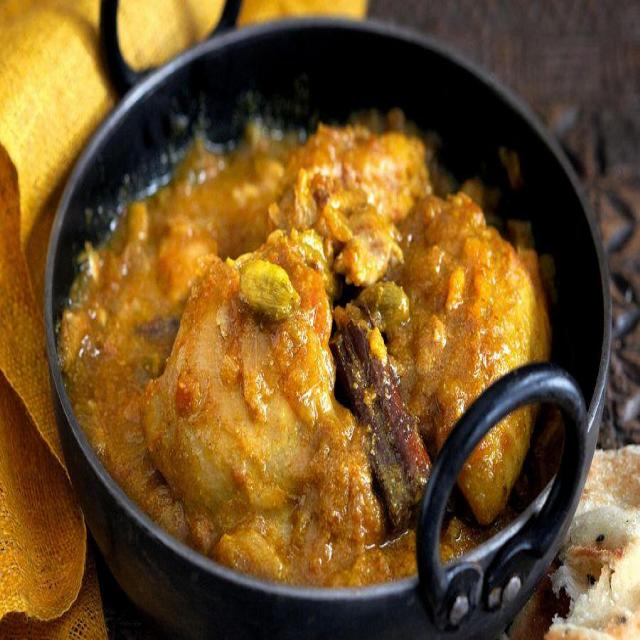chicken: (72, 122, 549, 544)
